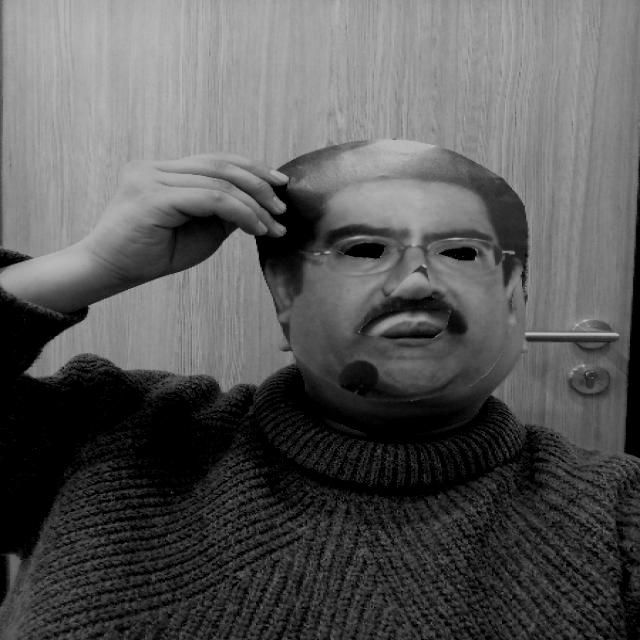fake: (249, 138, 529, 406)
